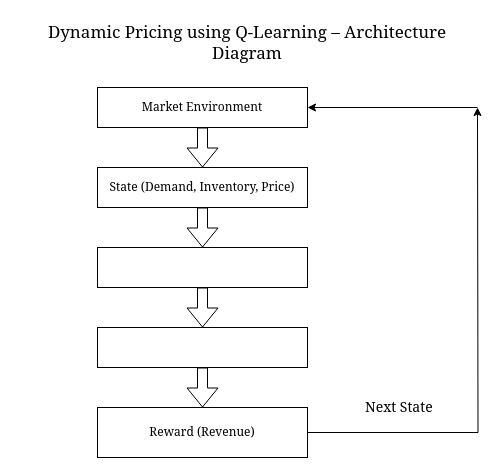
Some shapes in this 504 by 475 pixel diagram are drawn without their labels. The shapes that lost their labels are listed below. From the top down, each one's centre as x and y in pixels, then its label:
At point 202,267: "Q-Learning Agent".
At point 202,347: "Action (Price)".
